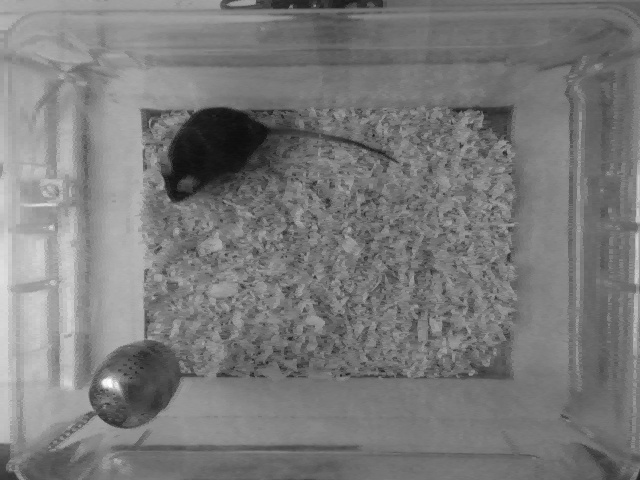mice: (156, 104, 399, 206)
